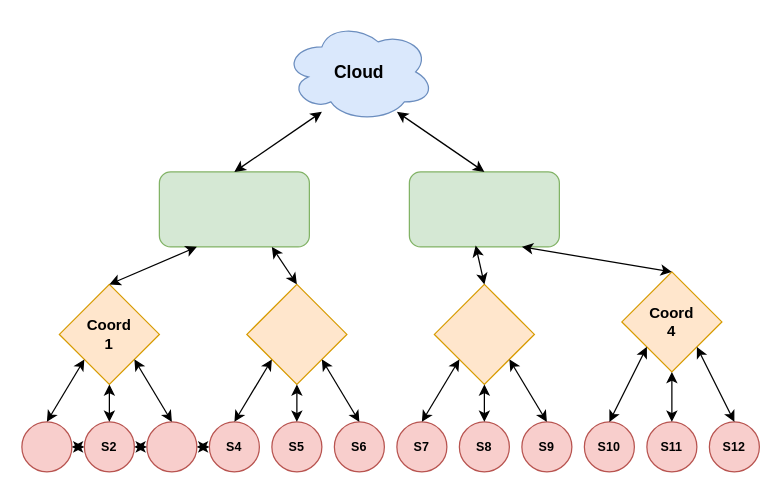
This 781x494 diagram has some shape labels left out. Each missing label, with the centre of its shape:
"Coord 2" goes at (x=296, y=333).
"Coord 3" goes at (x=483, y=333).
"Gateway 1" goes at (x=233, y=209).
"Gateway 2" goes at (x=483, y=209).
"S1" goes at (x=46, y=446).
"S3" goes at (x=171, y=446).
